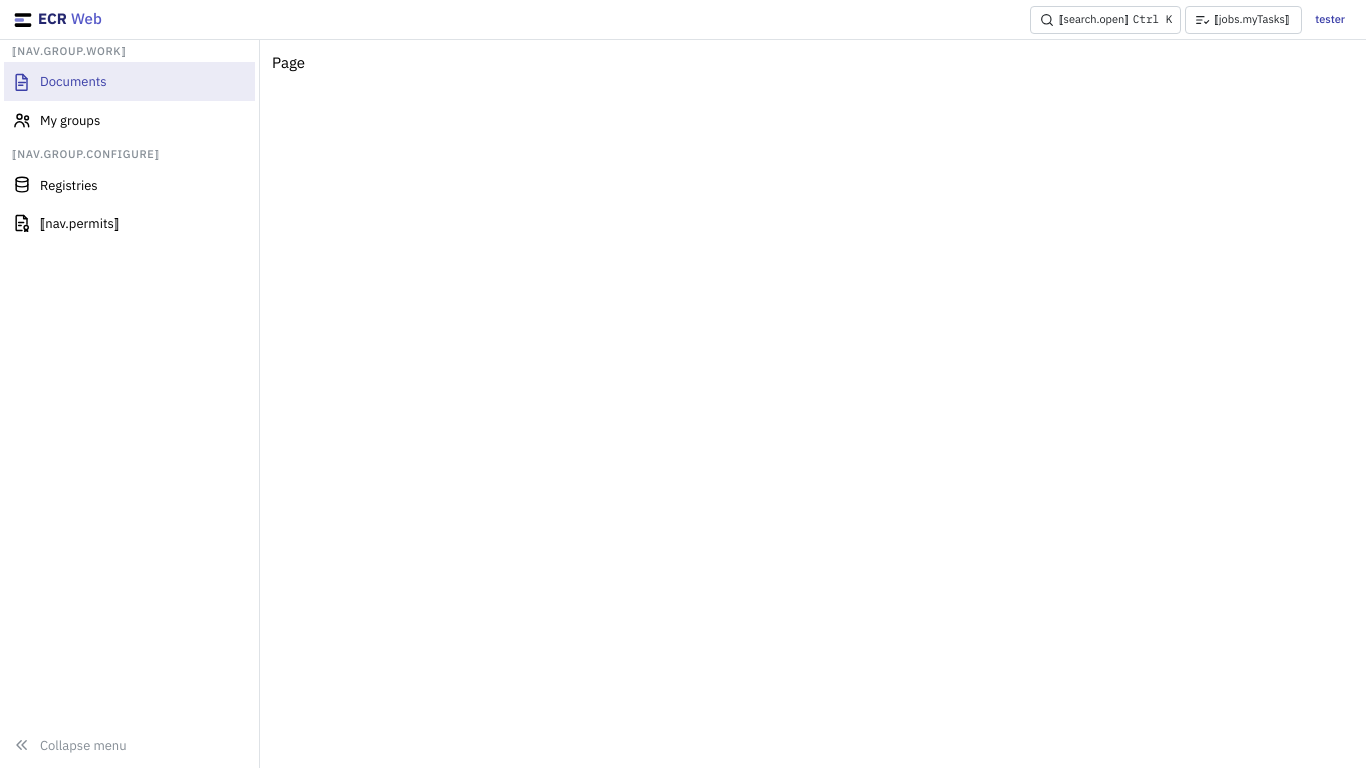
Test: AppLayout: бічне меню згортається до іконок › кнопка згортає меню: пункти без тексту, з іменем, стан у localStorage і на сервері
The width and height of the screenshot is (1366, 768).
Check: the text "Documents" is shown, box [40,73,107,90]
Click the button "Collapse menu": (130, 745) [4,726,255,764]
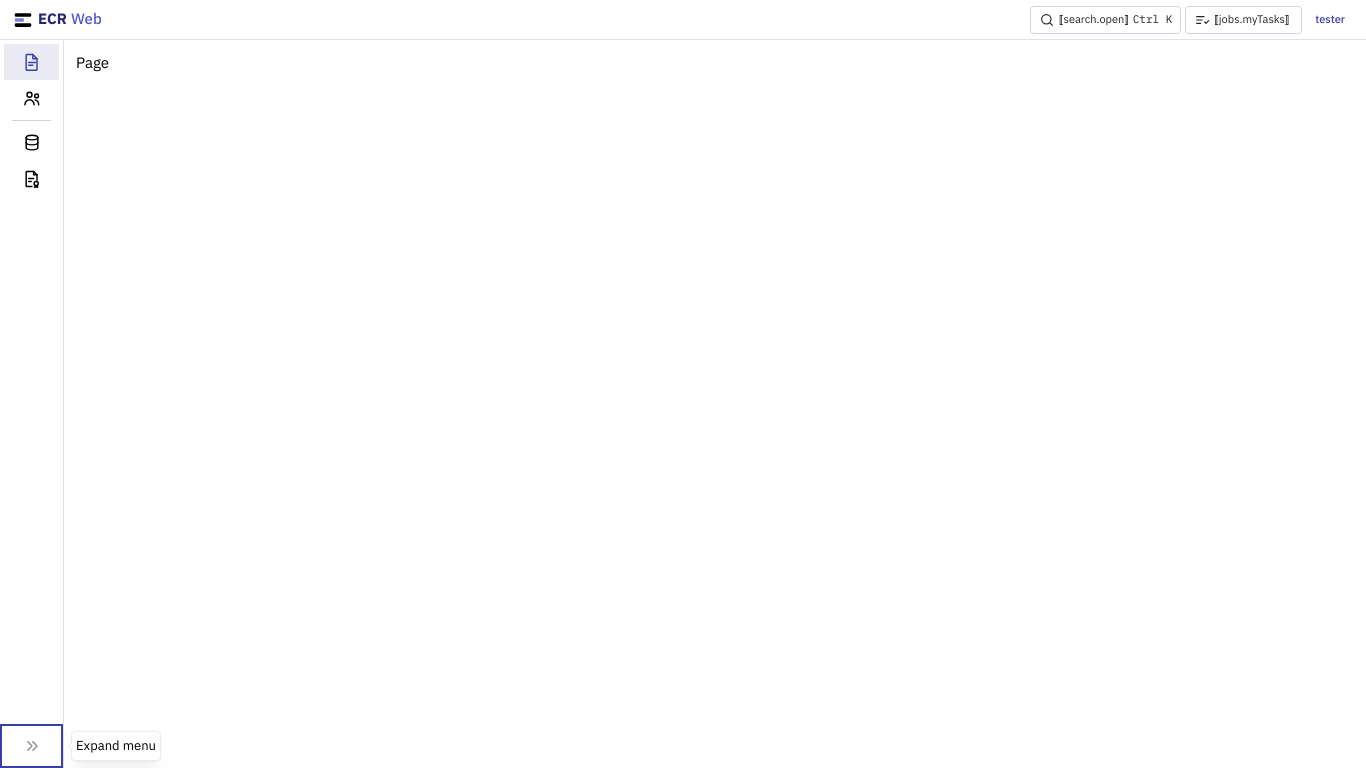
Check: the element with id "app-navbar-items" is shown, box [4,44,59,189]
Check: the button named "Expand menu" is collapsed
Click the button named "Expand menu": (32, 746) [4,728,59,764]
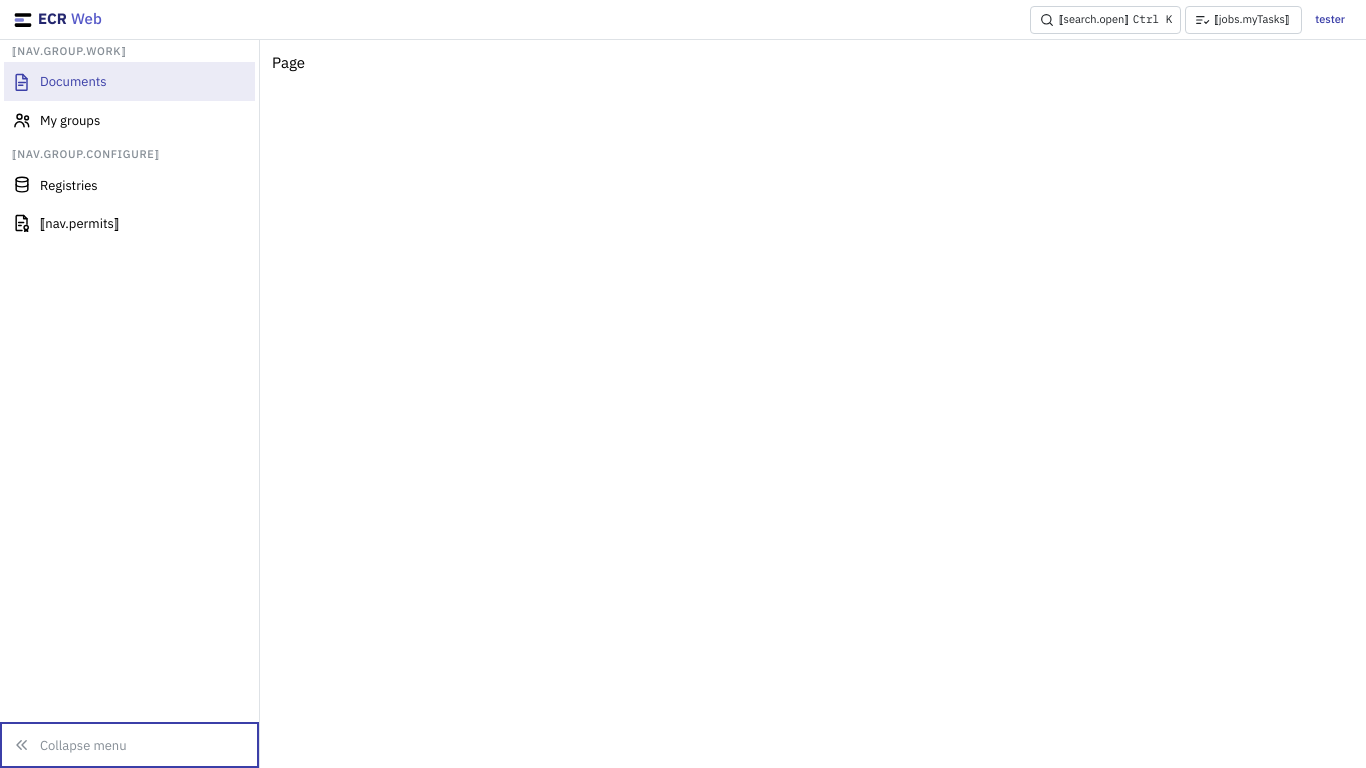
Check: the text "Documents" is shown, box [40,73,107,90]
